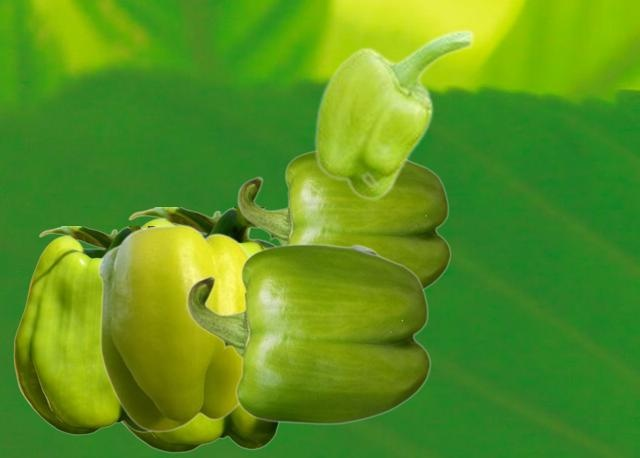bell_pepper: (186, 243, 430, 424), (121, 207, 279, 452), (97, 223, 249, 431), (237, 150, 450, 289), (13, 226, 150, 434), (313, 28, 475, 200)
